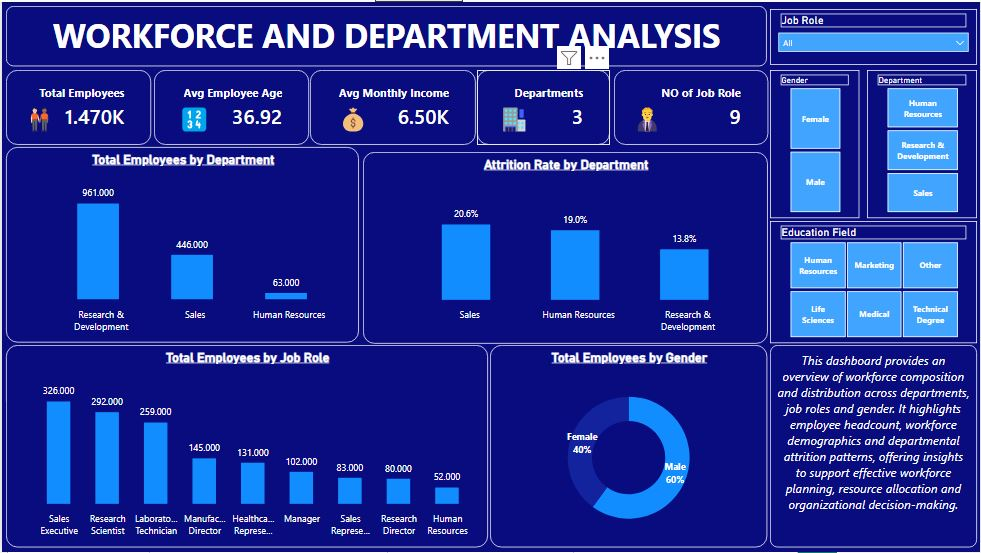

What the dashboard file says about the page in this screenshot:
{"tool":"powerbi","page":{"name":"Workforce and Department Analysis","canvas":[1280,720],"ordinal":1},"visuals":[{"type":"clusteredColumnChart","fields":{"Y":["HR Measure.Total Employees"],"Category":["HR Data.Department"]},"box":[5.8,190.1,462.2,256.3],"z":0},{"type":"clusteredColumnChart","fields":{"Category":["HR Data.Department"],"Y":["HR Measure.Attrition Rate"]},"box":[472.3,195.8,529.9,250.6],"z":1000},{"type":"clusteredColumnChart","fields":{"Y":["HR Measure.Total Employees"],"Category":["HR Data.Job Role"]},"box":[5.8,449.3,630.7,265],"z":2000},{"type":"donutChart","fields":{"Y":["HR Measure.Total Employees"],"Category":["HR Data.Gender"]},"box":[639.4,449.3,362.9,265],"z":3000},{"type":"cardVisual","fields":{"Data":["HR Measure.Total Employees"]},"box":[5.8,89.3,190.1,97.9],"z":4000},{"type":"cardVisual","fields":{"Data":["HR Measure.Average Employee Age"]},"box":[198.7,89.3,203,97.9],"z":5000},{"type":"cardVisual","fields":{"Data":["HR Measure.Average Monthly Income"]},"box":[403.2,89.3,217.4,97.9],"z":6000},{"type":"cardVisual","fields":{"Data":["HR Measure.Departments"]},"box":[622.1,89.3,174.2,97.9],"z":7000},{"type":"slicer","fields":{"Values":["HR Data.Department"]},"box":[1131.8,89.3,144,194.4],"z":8000},{"type":"slicer","fields":{"Values":["HR Data.Gender"]},"box":[1005.1,89.3,116.6,194.4],"z":9000},{"type":"slicer","fields":{"Values":["HR Data.Job Role"]},"box":[1005.1,8.6,270.7,73.4],"z":10000},{"type":"slicer","fields":{"Values":["HR Data.Education Field"]},"box":[1005.1,286.6,270.7,159.8],"z":11000},{"type":"textbox","box":[5.8,5.8,996.5,79.2],"z":12000},{"type":"textbox","box":[1005.1,449.3,270.7,265],"z":13000},{"type":"cardVisual","fields":{"Data":["HR Measure.Number of Job Role"]},"box":[800.6,89.3,201.6,97.9],"z":14000},{"type":"textbox","box":[15.8,123.8,69.1,56.2],"z":15000},{"type":"textbox","box":[217.4,123.8,69.1,56.2],"z":16000},{"type":"textbox","box":[424.8,123.8,69.1,56.2],"z":17000},{"type":"textbox","box":[636.5,123.8,69.1,56.2],"z":18000},{"type":"textbox","box":[810.7,123.8,69.1,56.2],"z":19000}]}

Visuals, with their boxes in screenshot pixels (x1, y1, x2, y2), scaled from the page's 1280x720 canvas onto the 981x553 screenshot:
clusteredColumnChart - HR Measure.Total Employees x HR Data.Department: box(4, 146, 359, 343)
clusteredColumnChart - HR Data.Department x HR Measure.Attrition Rate: box(362, 150, 768, 343)
clusteredColumnChart - HR Measure.Total Employees x HR Data.Job Role: box(4, 345, 488, 549)
donutChart - HR Measure.Total Employees x HR Data.Gender: box(490, 345, 768, 549)
cardVisual - HR Measure.Total Employees: box(4, 69, 150, 144)
cardVisual - HR Measure.Average Employee Age: box(152, 69, 308, 144)
cardVisual - HR Measure.Average Monthly Income: box(309, 69, 476, 144)
cardVisual - HR Measure.Departments: box(477, 69, 610, 144)
slicer - HR Data.Department: box(867, 69, 978, 218)
slicer - HR Data.Gender: box(770, 69, 860, 218)
slicer - HR Data.Job Role: box(770, 7, 978, 63)
slicer - HR Data.Education Field: box(770, 220, 978, 343)
textbox: box(4, 4, 768, 65)
textbox: box(770, 345, 978, 549)
cardVisual - HR Measure.Number of Job Role: box(614, 69, 768, 144)
textbox: box(12, 95, 65, 138)
textbox: box(167, 95, 220, 138)
textbox: box(326, 95, 379, 138)
textbox: box(488, 95, 541, 138)
textbox: box(621, 95, 674, 138)
